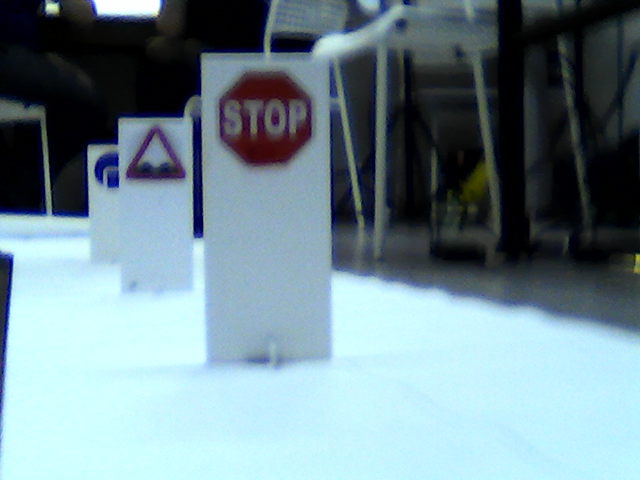Nerov: (124, 126, 190, 184)
Stop: (218, 63, 313, 166)
